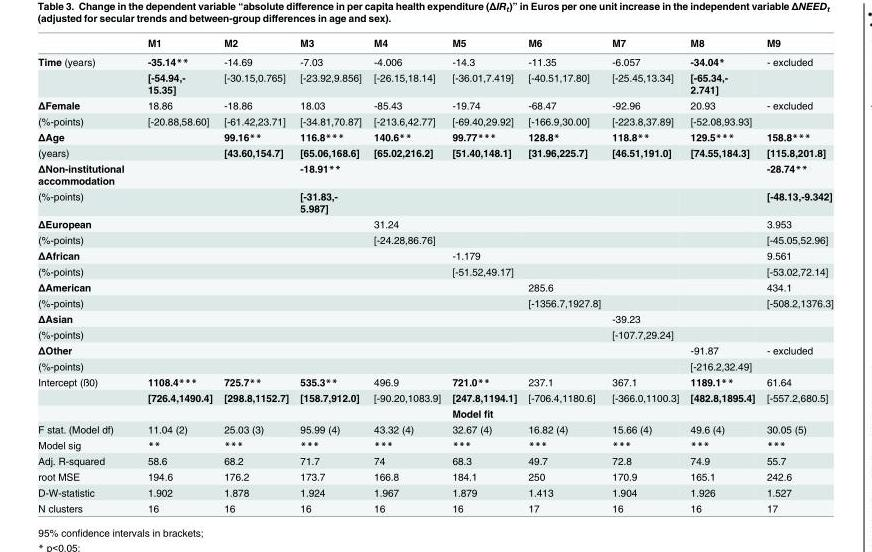table: (38, 36, 833, 513)
table column: (38, 36, 136, 513), (522, 36, 606, 513), (136, 36, 218, 513), (367, 36, 446, 513), (606, 36, 684, 513), (684, 36, 761, 513), (218, 36, 294, 513), (446, 36, 522, 513), (294, 36, 367, 513), (761, 36, 833, 513)
table column header: (38, 36, 833, 51)
table row: (38, 187, 833, 215), (38, 69, 833, 96), (38, 160, 833, 187), (38, 51, 833, 69), (38, 96, 833, 112), (38, 112, 833, 128), (38, 128, 833, 144), (38, 144, 833, 160), (38, 215, 833, 231), (38, 231, 833, 247), (38, 247, 833, 263), (38, 278, 833, 294), (38, 294, 833, 310), (38, 310, 833, 326), (38, 341, 833, 357), (38, 357, 833, 373), (38, 373, 833, 389), (38, 389, 833, 405), (38, 405, 833, 421), (38, 436, 833, 452), (38, 452, 833, 468), (38, 468, 833, 484), (38, 36, 833, 51), (38, 263, 833, 278), (38, 326, 833, 341), (38, 421, 833, 436), (38, 484, 833, 499), (38, 499, 833, 513)
table spanning cell: (38, 373, 136, 421), (38, 51, 136, 96)
